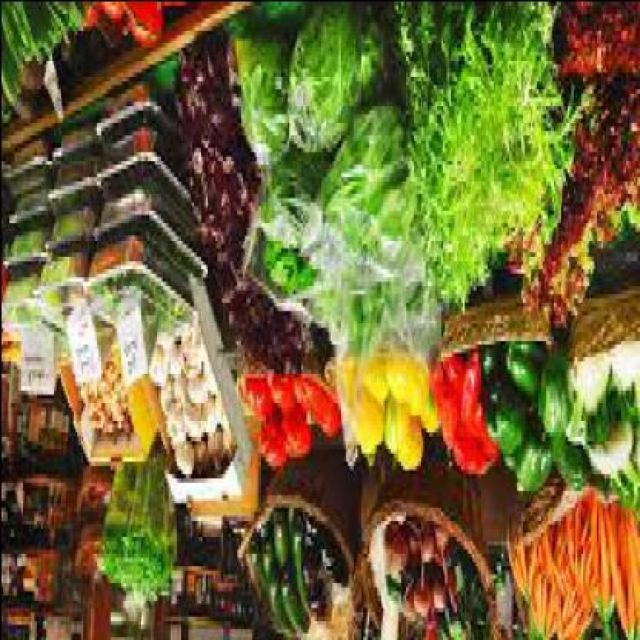BIODEGRADABLE: (393, 4, 584, 310), (502, 83, 638, 334), (173, 34, 239, 238), (0, 3, 78, 105), (554, 4, 638, 84), (327, 130, 385, 235), (580, 419, 638, 506), (211, 314, 304, 363), (308, 16, 352, 118), (366, 188, 411, 281), (97, 532, 169, 590), (531, 339, 566, 443), (578, 389, 638, 448), (78, 5, 164, 46), (558, 505, 592, 607), (238, 46, 274, 139), (484, 381, 524, 461), (566, 351, 611, 418), (500, 335, 543, 402), (509, 431, 549, 498), (453, 347, 481, 439), (208, 226, 240, 306), (605, 515, 624, 636), (286, 522, 308, 624), (449, 432, 494, 481), (524, 570, 556, 638), (278, 564, 308, 636), (350, 393, 381, 461), (607, 335, 638, 402), (533, 522, 570, 578), (554, 584, 592, 638), (265, 556, 289, 636), (506, 535, 534, 603), (456, 568, 484, 632), (317, 535, 345, 594), (436, 381, 455, 461), (597, 510, 609, 636), (622, 518, 635, 632), (550, 443, 582, 489), (404, 520, 434, 568), (395, 409, 416, 477), (404, 355, 428, 414), (384, 352, 408, 410), (257, 414, 281, 472), (247, 535, 265, 611), (587, 498, 599, 612), (282, 414, 309, 464), (382, 522, 406, 578), (360, 351, 383, 406), (380, 401, 402, 456), (266, 510, 285, 573), (264, 377, 294, 414), (409, 565, 428, 623), (346, 298, 376, 334), (163, 327, 185, 376), (560, 402, 583, 448), (292, 377, 317, 418), (305, 590, 327, 636), (243, 380, 271, 414), (159, 402, 181, 443), (432, 536, 456, 573), (297, 540, 315, 589), (416, 393, 435, 439), (339, 360, 358, 406), (178, 393, 197, 439), (630, 519, 638, 623), (153, 381, 173, 422), (169, 439, 191, 476), (479, 348, 498, 389), (260, 527, 272, 590), (142, 343, 160, 385), (397, 577, 412, 623), (420, 628, 488, 638), (292, 260, 310, 297), (260, 238, 282, 268), (299, 510, 318, 544), (428, 573, 442, 615), (317, 402, 332, 440), (168, 368, 183, 406), (183, 372, 199, 406), (205, 432, 220, 468), (103, 415, 125, 439), (200, 368, 214, 402), (200, 398, 212, 434), (190, 439, 204, 468), (186, 347, 199, 376), (100, 377, 114, 401), (85, 422, 101, 440), (84, 406, 98, 419), (212, 405, 218, 427), (220, 435, 226, 456)
